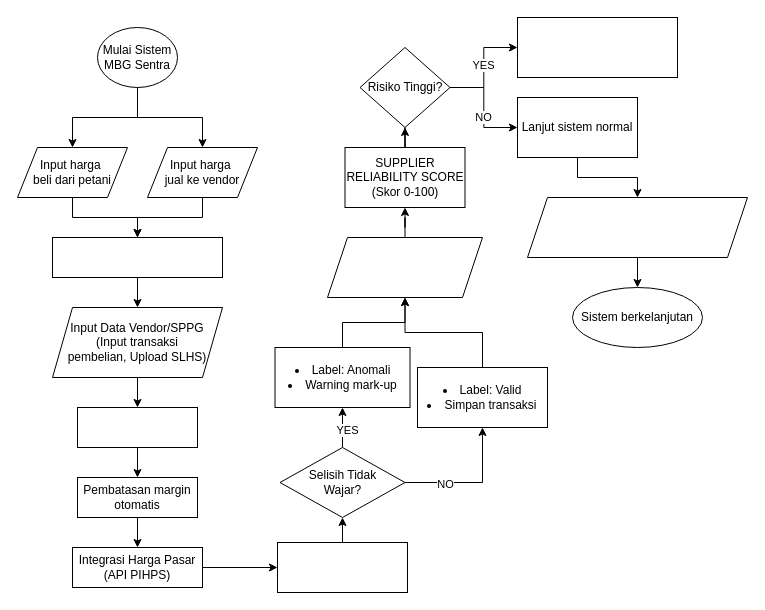
The diagram is 765 pixels wide and 610 high, and some of its shapes have lost their labels. Each missing label, with the box of its shape:
Audit gudang Pembekuan akses: (516, 16, 678, 78)
Dashboard Monitoring (Anggaran, Cakupan wilayah): (326, 236, 482, 298)
Deteksi anomali (Bandingkan harga input vs pasar): (276, 542, 408, 592)
Keamanan pangan Ekonomi desa meningkat Transparansi sistem: (526, 196, 748, 258)
Sinkronisasi data koperasi & vendor: (76, 406, 198, 448)
Validasi Otomatis (Geolocation,Timestamp): (52, 236, 222, 278)
